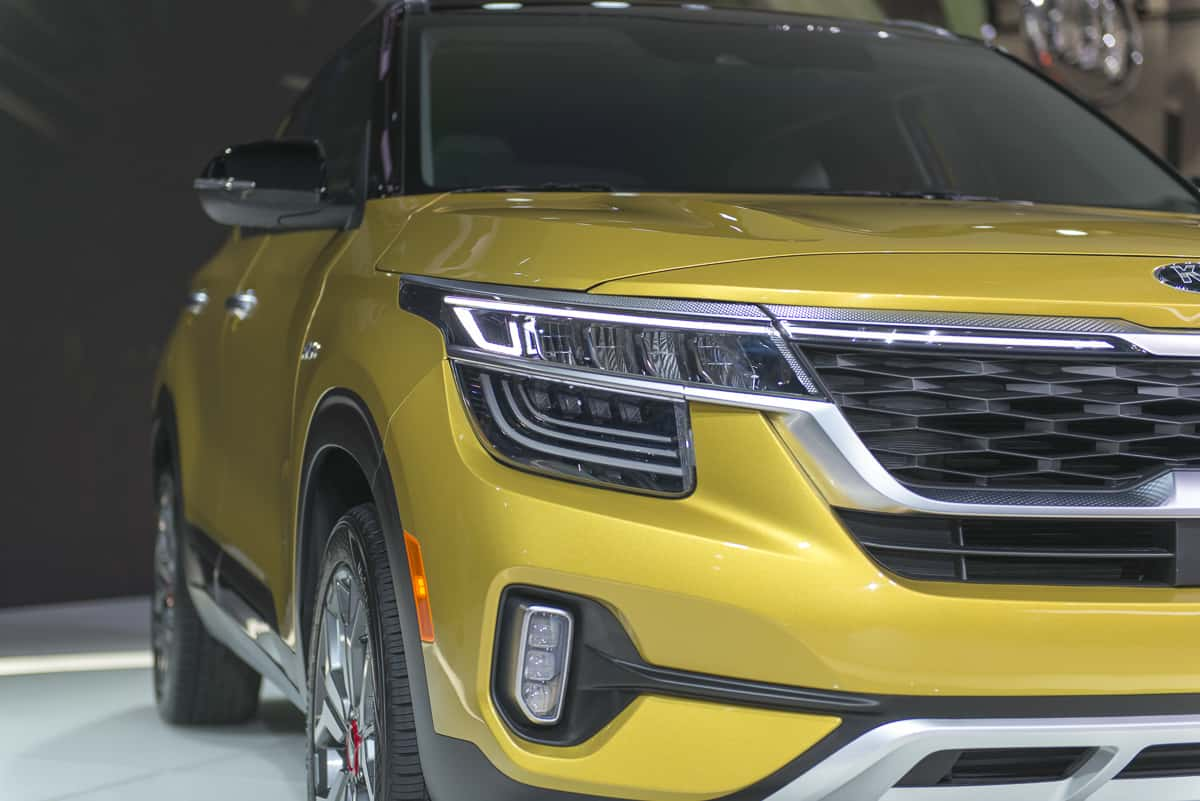car: (148, 4, 1200, 801)
